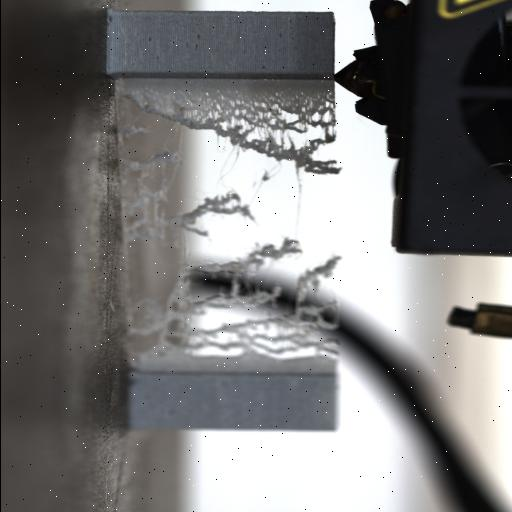stringing: (123, 242, 339, 352), (113, 86, 343, 180), (120, 182, 264, 244)
